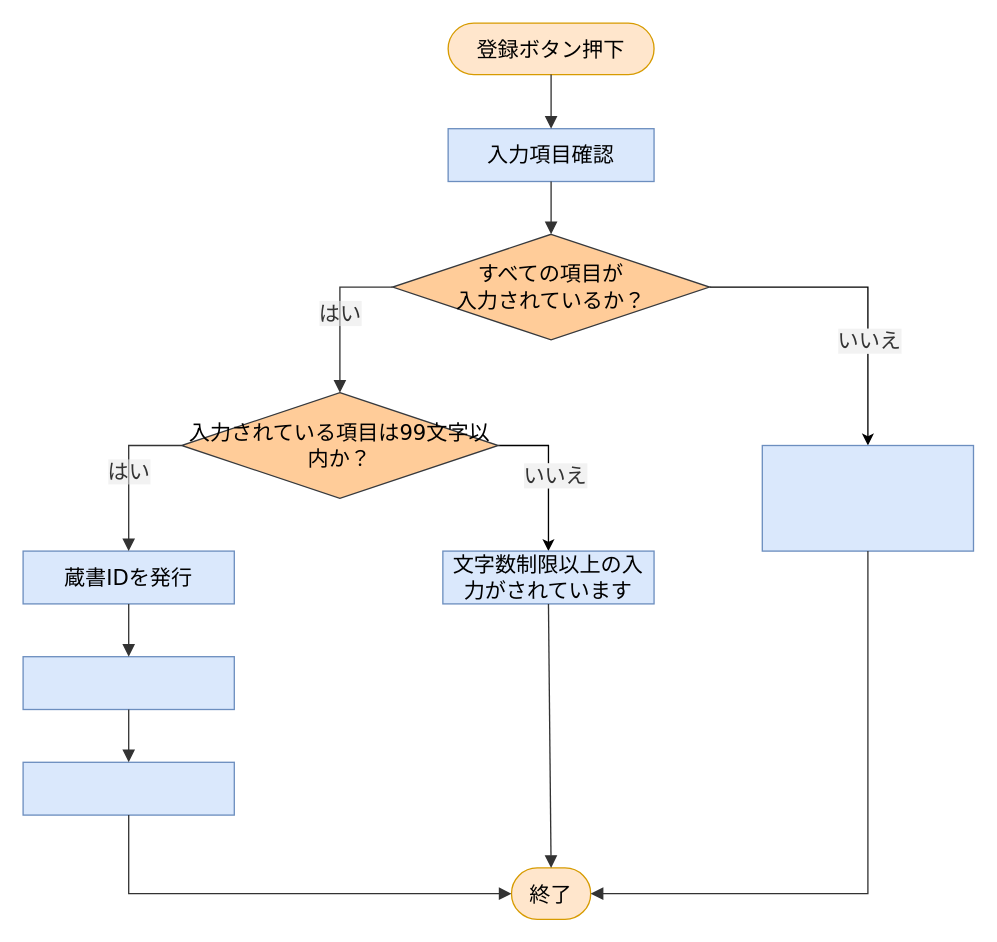
Image size: 997x942. Some labels were removed from this diagram. Here are the shapes that lost their labels. From the top down, the centre of each, then its label:
pixel 867 497: エラーメッセージ「すべての項目に入力をしてください」を表示
pixel 128 682: 蔵書バーコードを発行
pixel 128 788: 蔵書の情報をデータベースに登録
